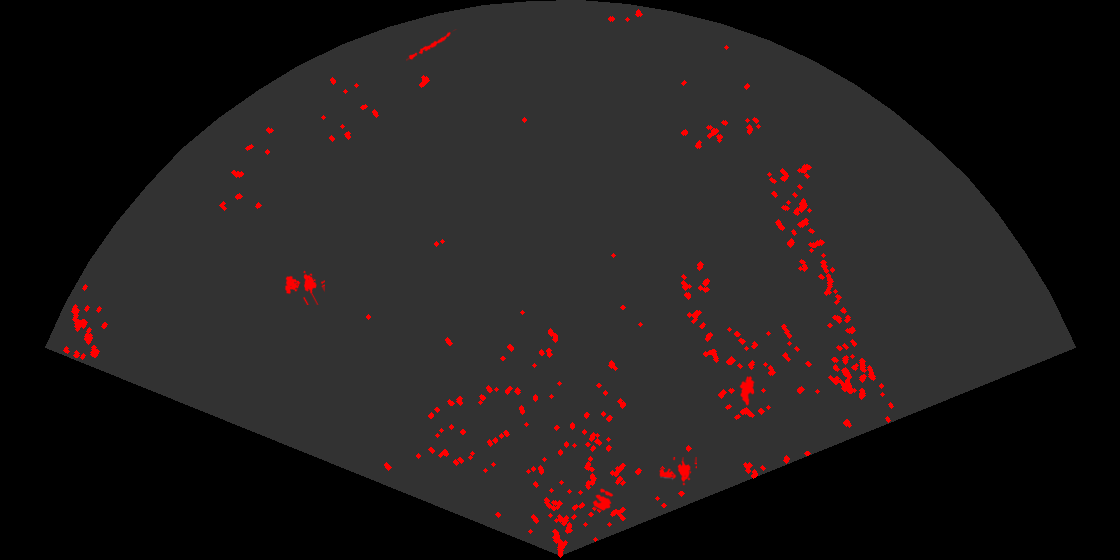AUV: (738, 374, 756, 407)
ball: (591, 487, 615, 512)
cage: (283, 269, 325, 305), (658, 457, 697, 487)
chain: (406, 29, 458, 63)
